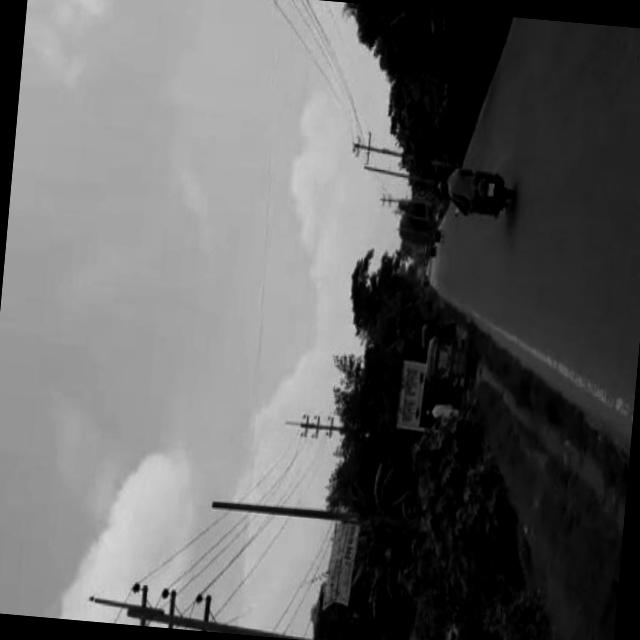motorcycle: (452, 171, 512, 226), (423, 337, 471, 395)
